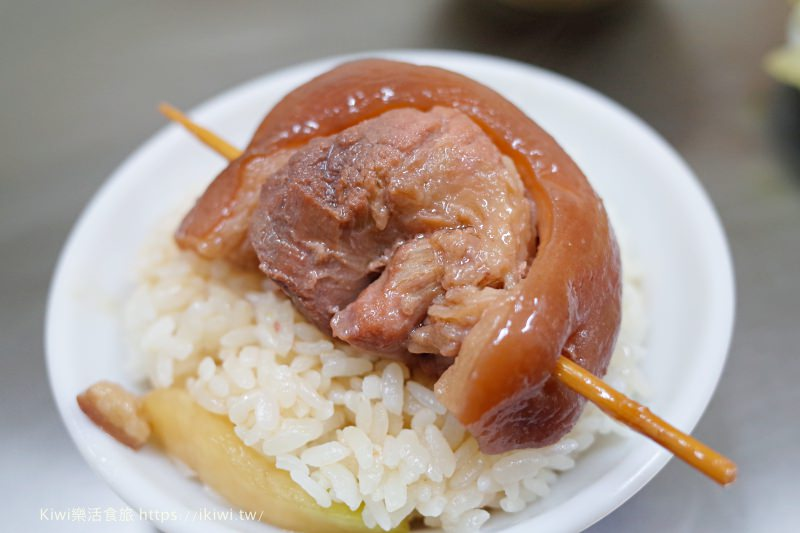Kongrou: (185, 56, 628, 451)
